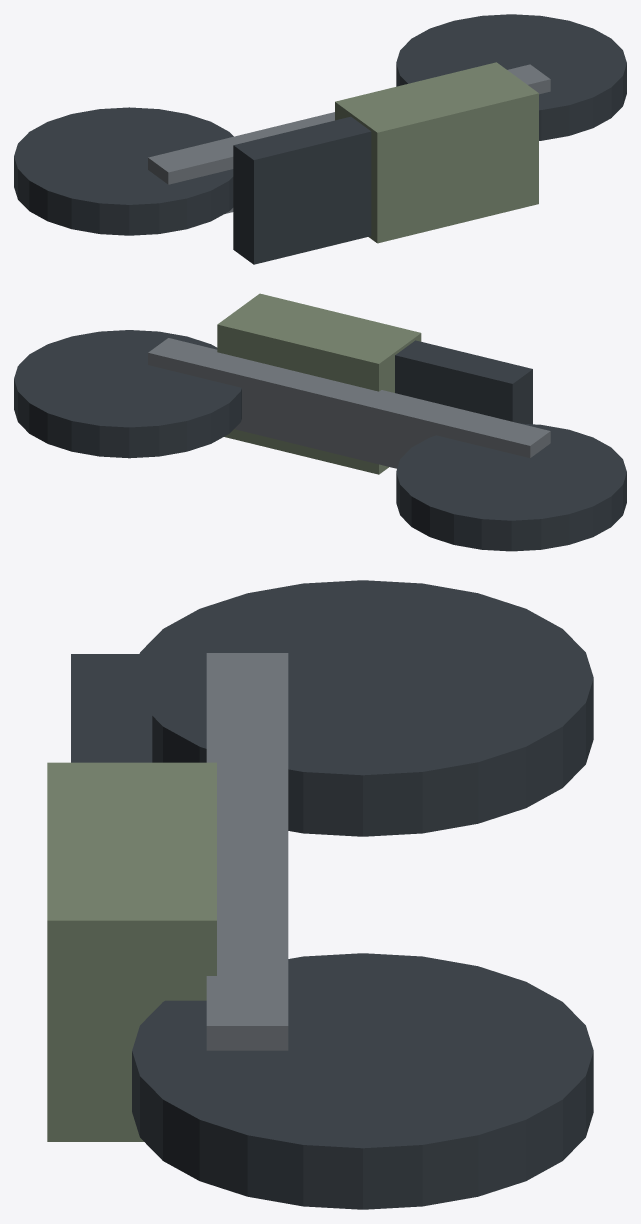
File: motorcycle.glb
The picture shows the model from 3 angles, top to bottom: view 1: azimuth 30°, elevation 25°; view 2: azimuth 150°, elevation 25°; view 3: azimuth 270°, elevation 25°; orthographic projection. The views are drawn at different scales.
Visible parts, largest first — view 1: g4_tank, g1_rear wheel, g3_seat, g0_front wheel, g2_frame; view 2: g1_rear wheel, g0_front wheel, g2_frame, g4_tank, g3_seat; view 3: g0_front wheel, g1_rear wheel, g4_tank, g2_frame, g3_seat.
Part boxes in pixels (box(x1,y1,x2,y2)): g4_tank: box(335, 62, 538, 243); g1_rear wheel: box(14, 107, 233, 235); g3_seat: box(233, 116, 371, 264); g0_front wheel: box(396, 14, 626, 140); g2_frame: box(148, 64, 550, 213); g1_rear wheel: box(396, 423, 626, 551); g0_front wheel: box(14, 330, 241, 458); g2_frame: box(148, 338, 550, 468); g4_tank: box(217, 293, 421, 474); g3_seat: box(395, 340, 532, 424); g0_front wheel: box(132, 953, 593, 1209); g1_rear wheel: box(139, 580, 593, 836); g4_tank: box(47, 762, 216, 1141); g2_frame: box(206, 653, 288, 1050); g3_seat: box(71, 654, 152, 762).
Size of the model in its own units: 1.98 by 0.36 by 0.805.
